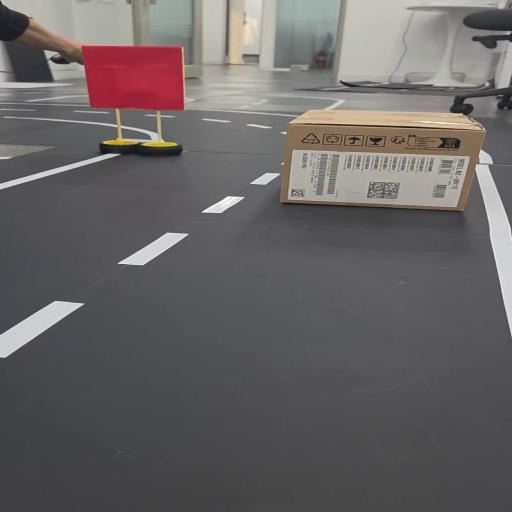Box: (273, 109, 494, 216)
Sign_A: (79, 43, 195, 163)
